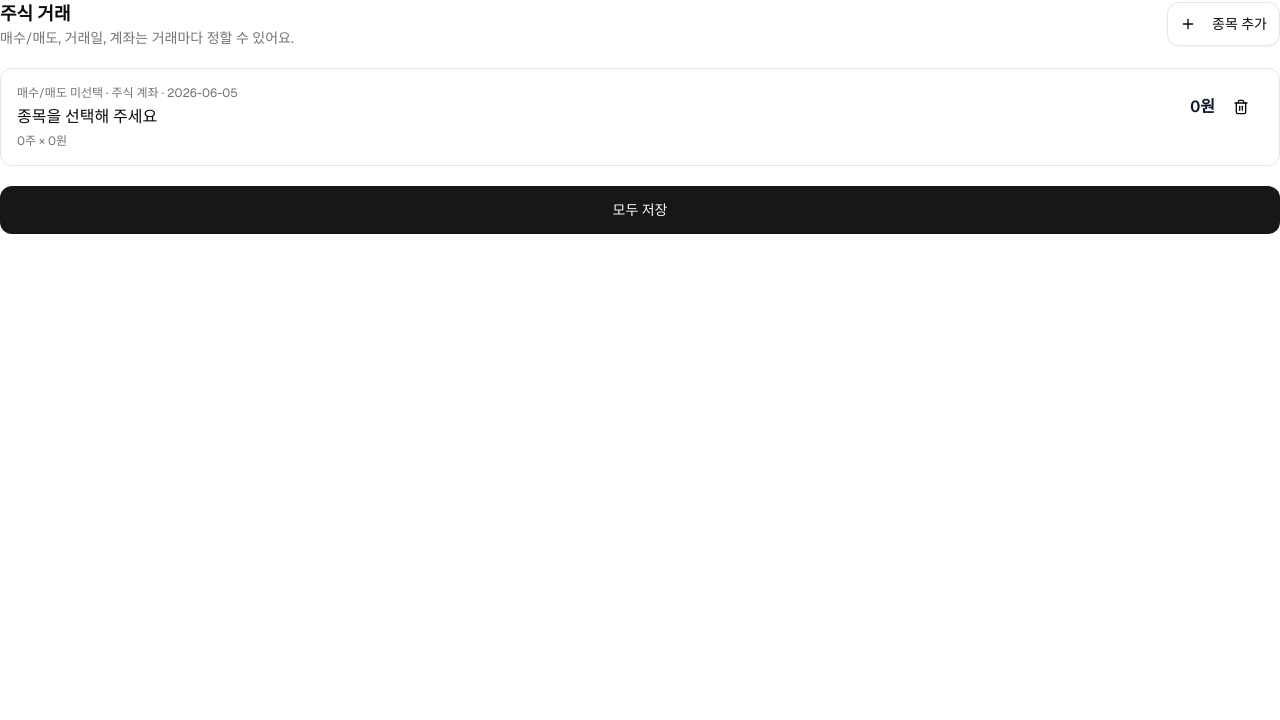
Test: stock trade composer (desktop) › blocks Done and names every missing value
Click the button "매수/매도 미선택 · 주식 계좌 · 2026-06-05 종목을 선택해 주세요 0주 × 0원" at (60,93), box 17,85 -> 1178,149
(page scrolled)
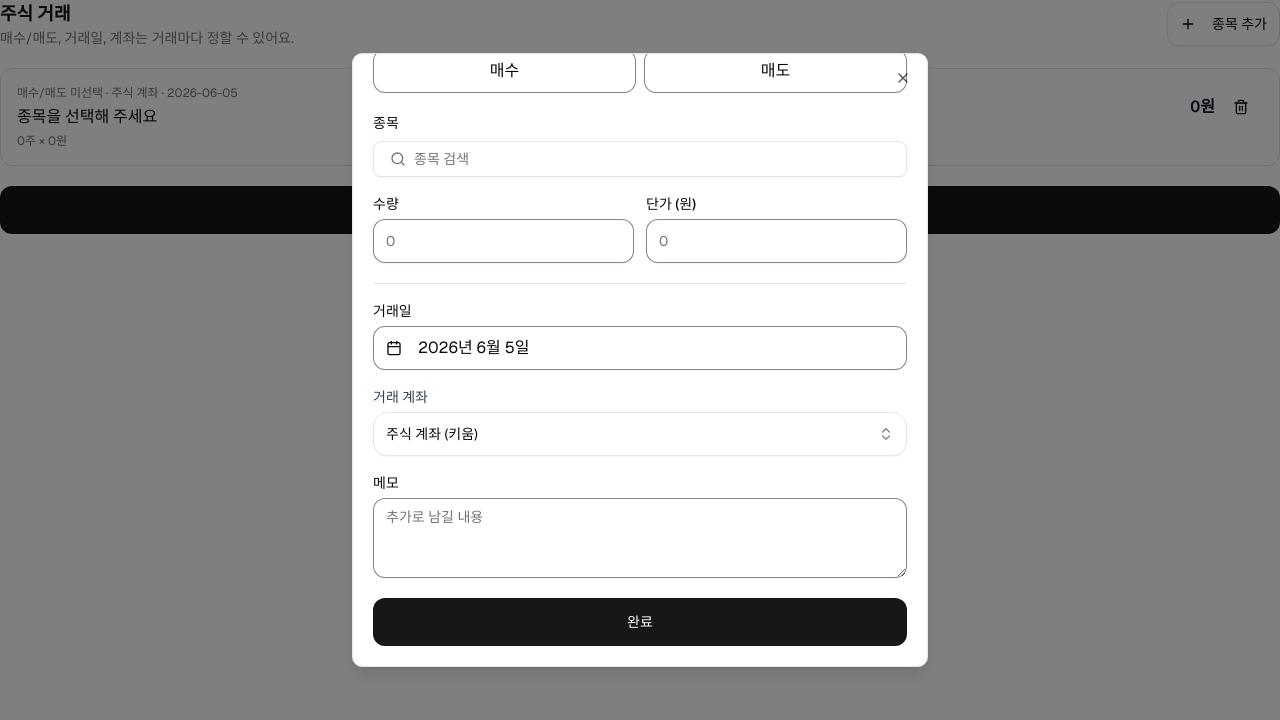
Click the button "완료" at (640,622), box 373,598 -> 907,646
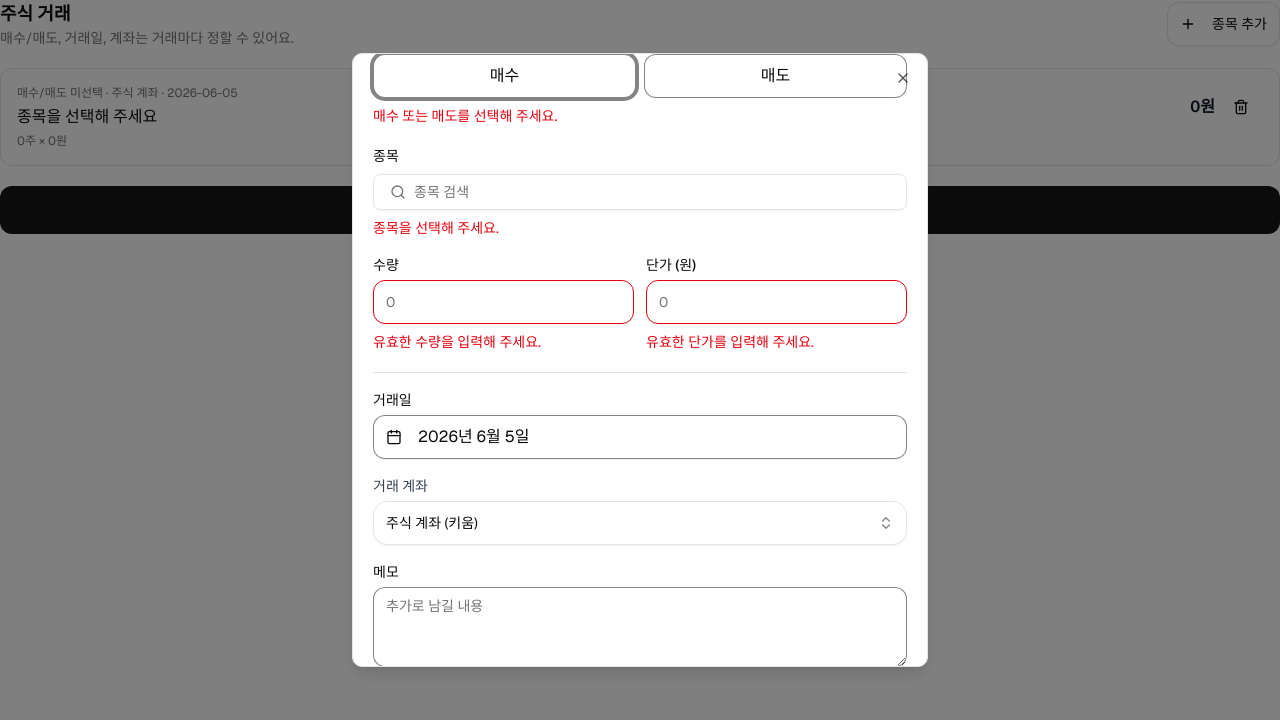
Check: the text "매수 또는 매도를 선택해 주세요." is shown, box 373,107 -> 557,125
Check: the text "종목을 선택해 주세요." is shown, box 373,219 -> 499,237
Check: the text "유효한 수량을 입력해 주세요." is shown, box 373,333 -> 541,351
